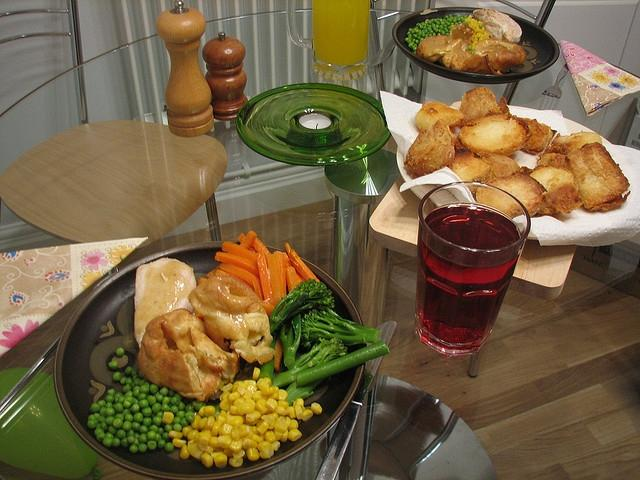broccoli: (270, 336, 348, 389), (269, 279, 335, 335), (301, 306, 380, 347), (280, 314, 301, 369), (285, 379, 314, 406)
carrot: (220, 262, 264, 296), (284, 242, 320, 283), (214, 252, 260, 278), (255, 252, 275, 308), (215, 269, 255, 293), (222, 241, 258, 264), (268, 254, 282, 307), (251, 237, 272, 270), (274, 250, 286, 299), (237, 232, 258, 253), (286, 267, 300, 294), (240, 230, 258, 250), (258, 302, 276, 318)
pea: (192, 401, 206, 410), (133, 412, 144, 423), (152, 402, 162, 414), (142, 416, 152, 428), (148, 424, 159, 434), (171, 396, 181, 407), (147, 440, 157, 450), (180, 418, 190, 428), (116, 429, 126, 439), (146, 431, 156, 441), (147, 396, 157, 406), (140, 384, 150, 394), (122, 384, 132, 394), (106, 394, 116, 404), (91, 403, 101, 413), (138, 434, 148, 444), (105, 416, 115, 426), (176, 410, 186, 420), (105, 432, 114, 443), (100, 406, 108, 418), (185, 403, 195, 412), (164, 443, 174, 452), (132, 437, 142, 446), (103, 437, 112, 447), (109, 360, 118, 370), (114, 403, 124, 412), (162, 396, 171, 405), (139, 425, 148, 434), (160, 387, 169, 396), (133, 389, 142, 398), (116, 347, 124, 357), (126, 436, 136, 444), (172, 424, 182, 432), (139, 400, 149, 408), (112, 438, 120, 448), (122, 408, 132, 416), (125, 414, 134, 422), (150, 384, 158, 393), (125, 378, 134, 386), (164, 424, 173, 432), (95, 428, 104, 436), (161, 404, 170, 412), (116, 413, 124, 421), (162, 432, 170, 440), (156, 411, 164, 419), (123, 400, 131, 408), (156, 394, 163, 403), (132, 397, 139, 405), (108, 389, 116, 396), (168, 389, 175, 396), (94, 413, 100, 420), (134, 432, 141, 438), (416, 22, 422, 28), (132, 370, 138, 376), (112, 433, 119, 438), (460, 17, 465, 22), (432, 27, 437, 32), (446, 22, 451, 27), (467, 46, 473, 50), (448, 26, 452, 31), (413, 46, 417, 51), (448, 18, 452, 22), (478, 25, 482, 29), (423, 26, 427, 30), (411, 42, 415, 46), (436, 18, 440, 22), (424, 34, 428, 38), (456, 14, 460, 18), (446, 32, 450, 36), (414, 29, 417, 32), (408, 36, 412, 38), (412, 28, 415, 30), (416, 33, 418, 36)
